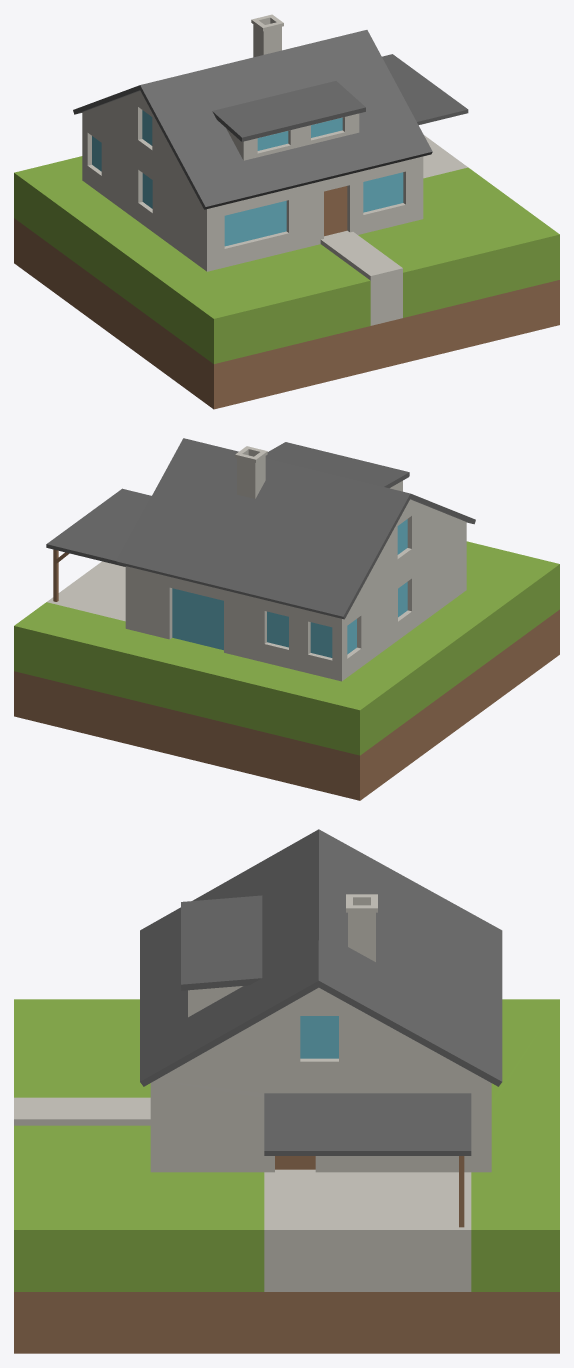
Rendered from house-small-carport-left.glb.
3 renders of one model, top to bottom at view 1: azimuth 30°, elevation 25°; view 2: azimuth 150°, elevation 25°; view 3: azimuth 270°, elevation 25°, orthographic. The views are drawn at different scales.
Parts seen in each view (by area): view 1: house-small-carport-left_Cube.006; view 2: house-small-carport-left_Cube.006; view 3: house-small-carport-left_Cube.006.
Boxes of the visible parts, box(x1,y1,x2,y2) form: house-small-carport-left_Cube.006: box(14, 14, 559, 409); house-small-carport-left_Cube.006: box(14, 438, 559, 800); house-small-carport-left_Cube.006: box(14, 829, 559, 1353).
Bounding box in the file's own units: 8 × 5.54 × 8.
1 material, 1 textured.
